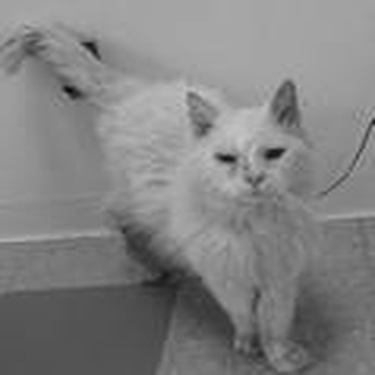cat: (3, 12, 316, 371)
